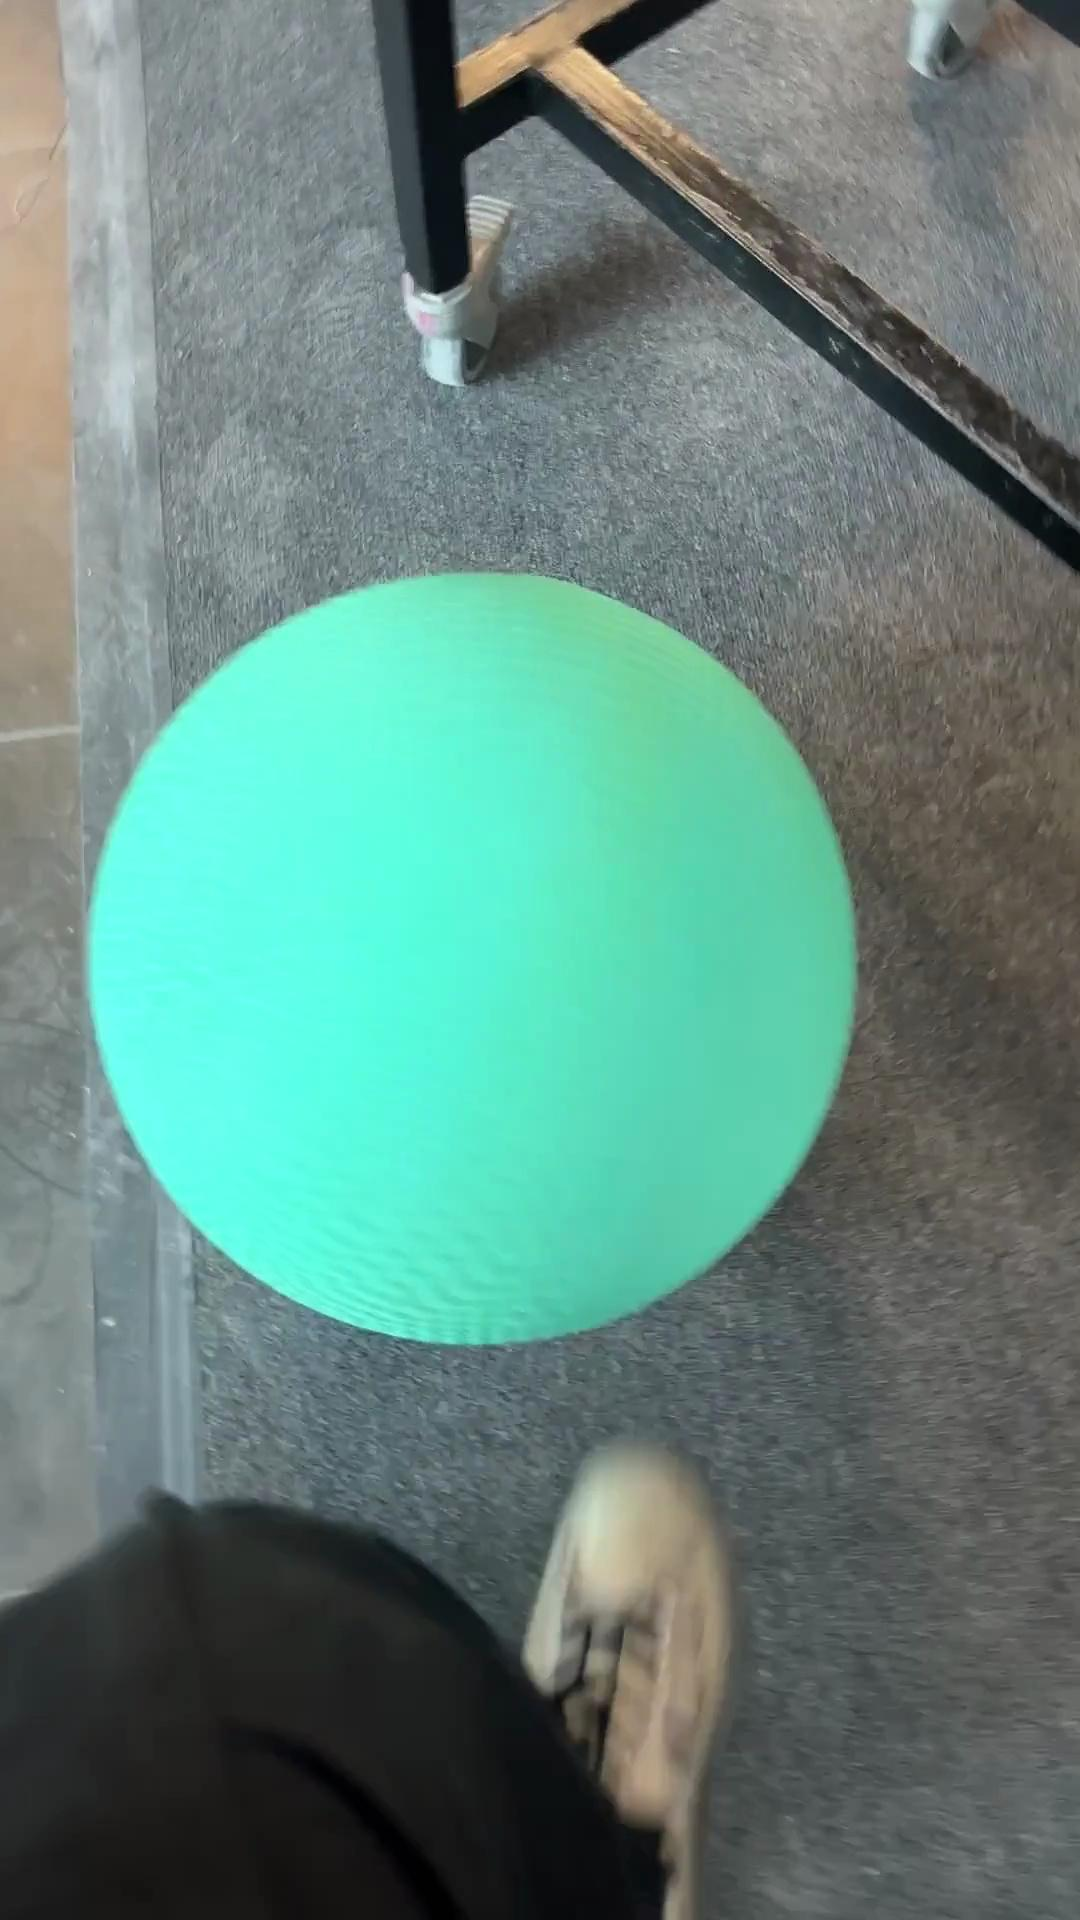ALGAE: (83, 568, 861, 1348)
